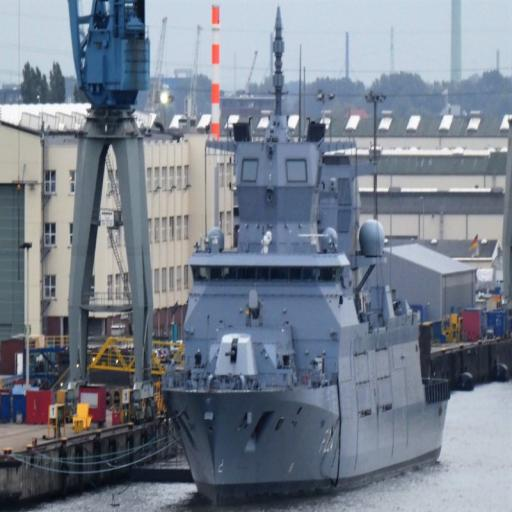Fragata: (158, 2, 451, 508)
